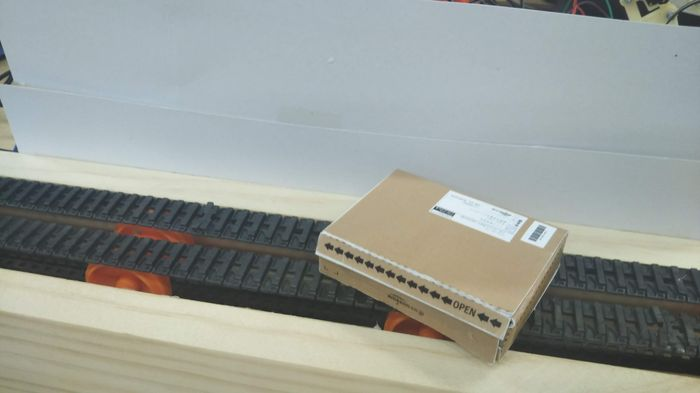box2: (313, 162, 567, 363)
